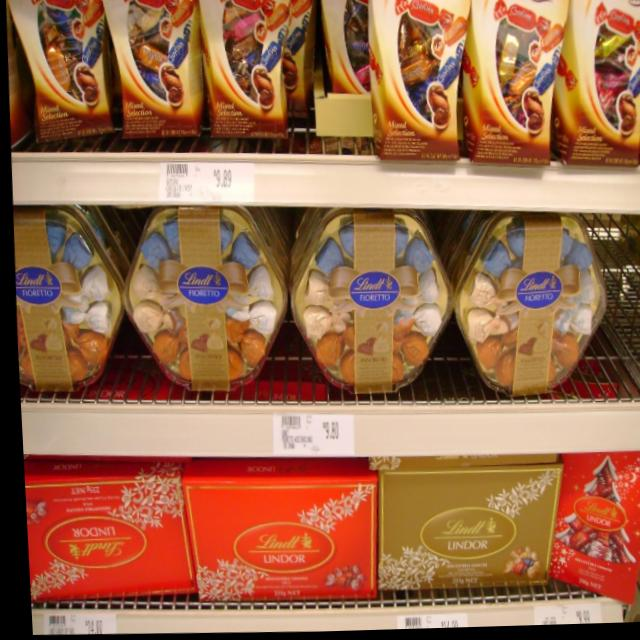q112: (372, 460, 563, 616)
